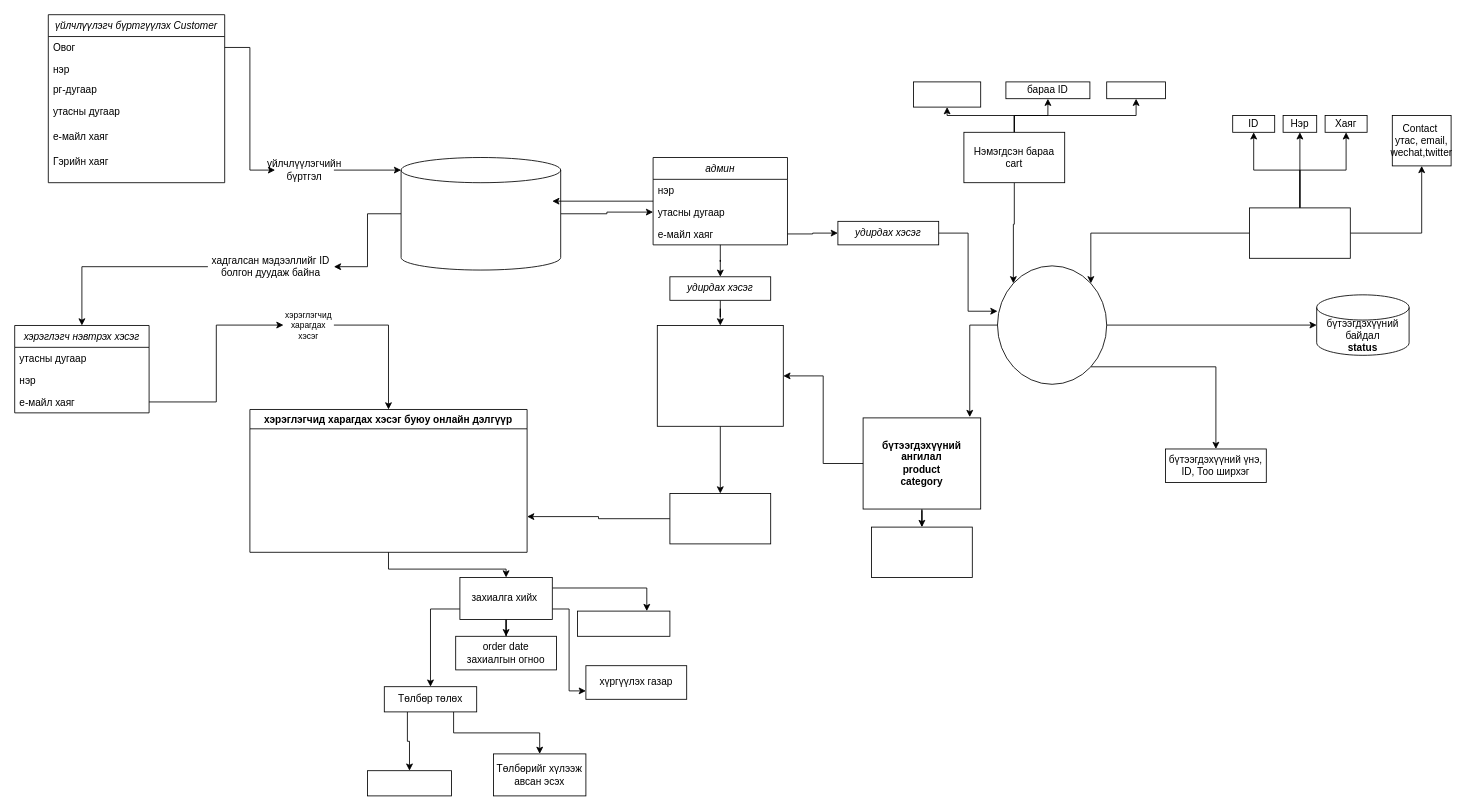
Some shapes in this 1467 by 811 pixel diagram are drawn without their labels. Here are the shapes that lost their labels. From the top down, the centre of each, then its label:
At (947,94): "То хэмжээ Quantity".
At (1136,90): "Хэмжээ".
At (480,213): "хэрэглэгчийн бүртгэлүүдийг хадагалах сан".
At (1299,232): "Supplier, Нийлүүлэгч".
At (1052,324): "бүтээгдэхүүн product".
At (719,375): "вэб сайтын нэгдсэн нөөц байршуулагч".
At (720,518): "бүтээгдэхүүн нэмнэ".
At (921,552): "бүтээгдэхүүний код category-id ангиллын дугаар ID".
At (623,623): "захиалгын хэмжээ order amount".
At (409,783): "Төлбөрийн хугацаа".
